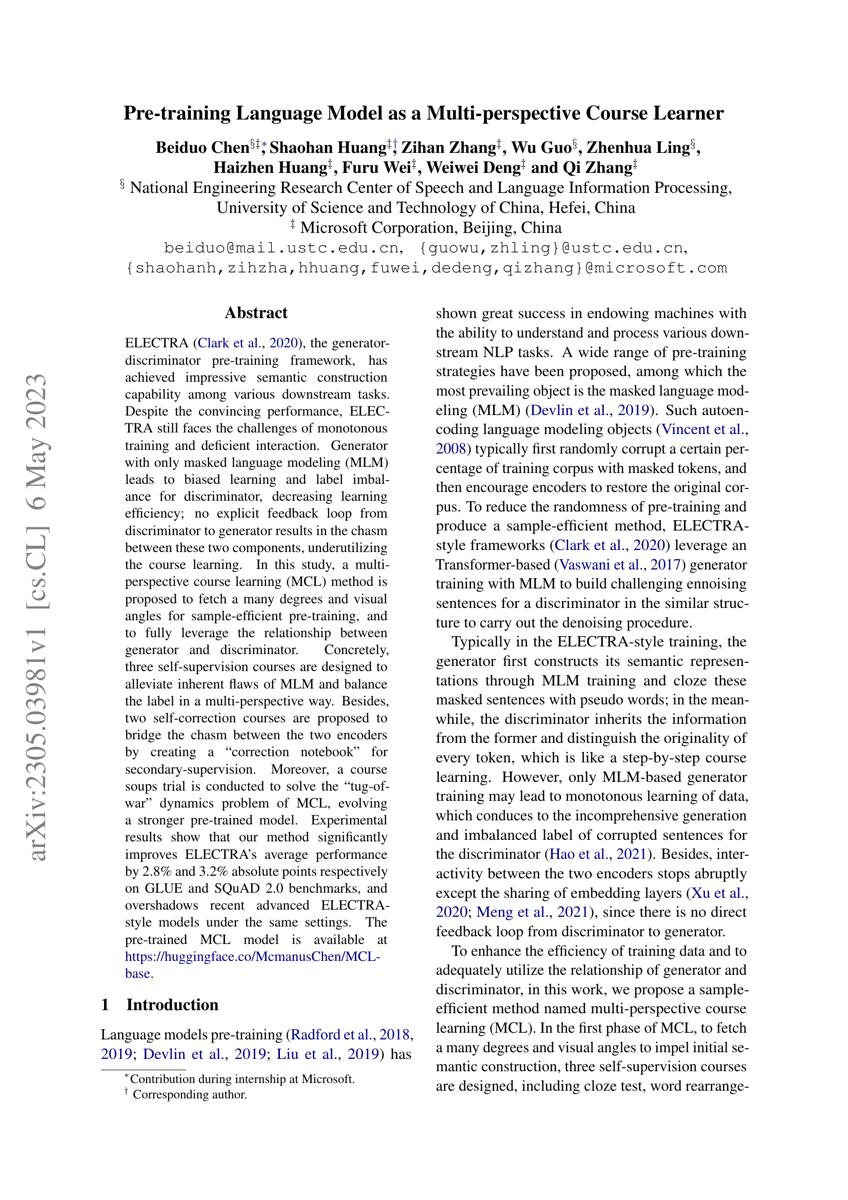text: (119, 301, 394, 983), (430, 633, 753, 1100), (430, 303, 753, 633), (95, 987, 417, 1069), (119, 98, 729, 129)
